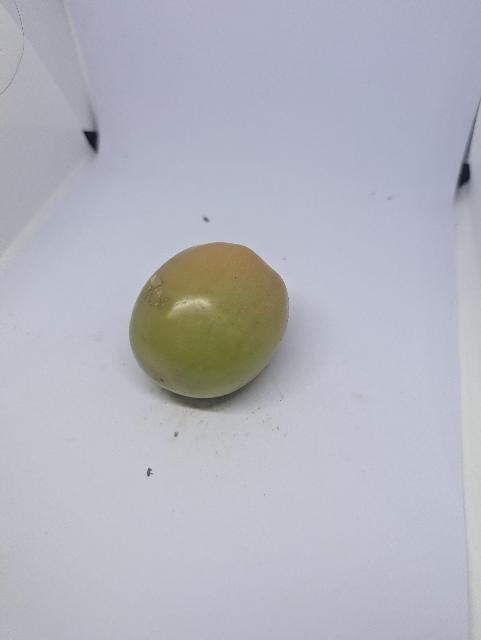breaker: (130, 243, 289, 398)
